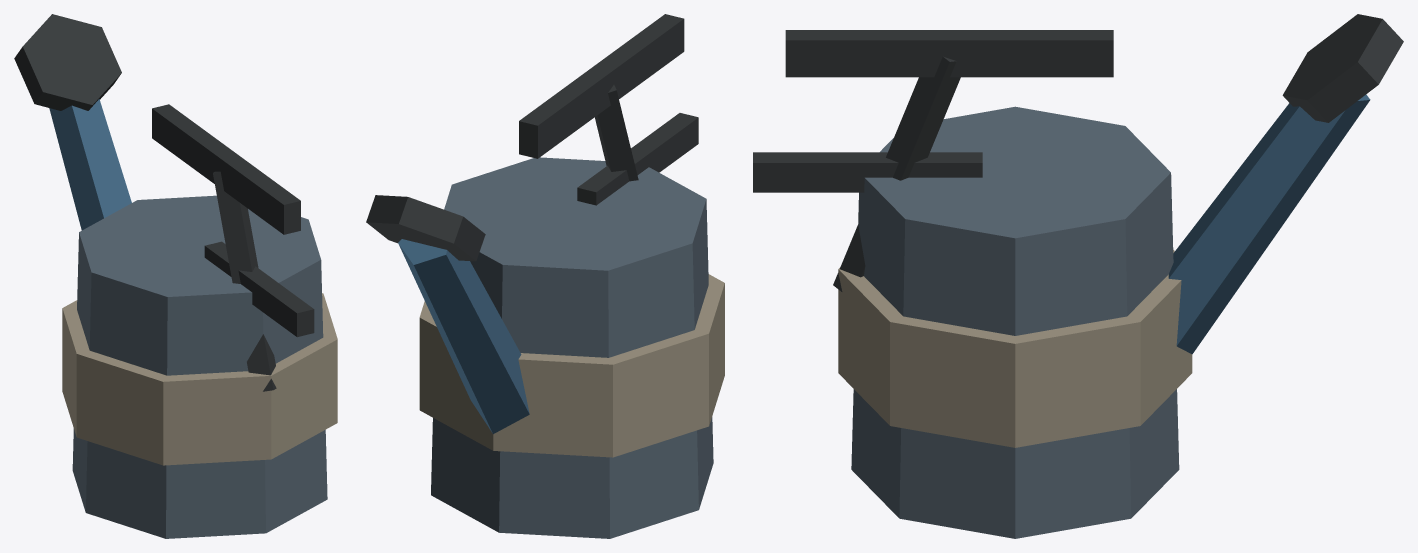
Rendered from tool_watering_can_quiet.glb.
The picture shows the model from 3 angles, left to right: view 1: azimuth 30°, elevation 25°; view 2: azimuth 150°, elevation 25°; view 3: azimuth 270°, elevation 25°; orthographic projection. The views are drawn at different scales.
Visible parts, largest first — view 1: Can; view 2: Can; view 3: Can.
Boxes of the visible parts, x1,y1,x2,y2 form: Can: [14, 14, 337, 538]; Can: [366, 14, 724, 538]; Can: [753, 14, 1403, 538].
Size of the model in its own units: 0.216 by 0.3034 by 0.397.
